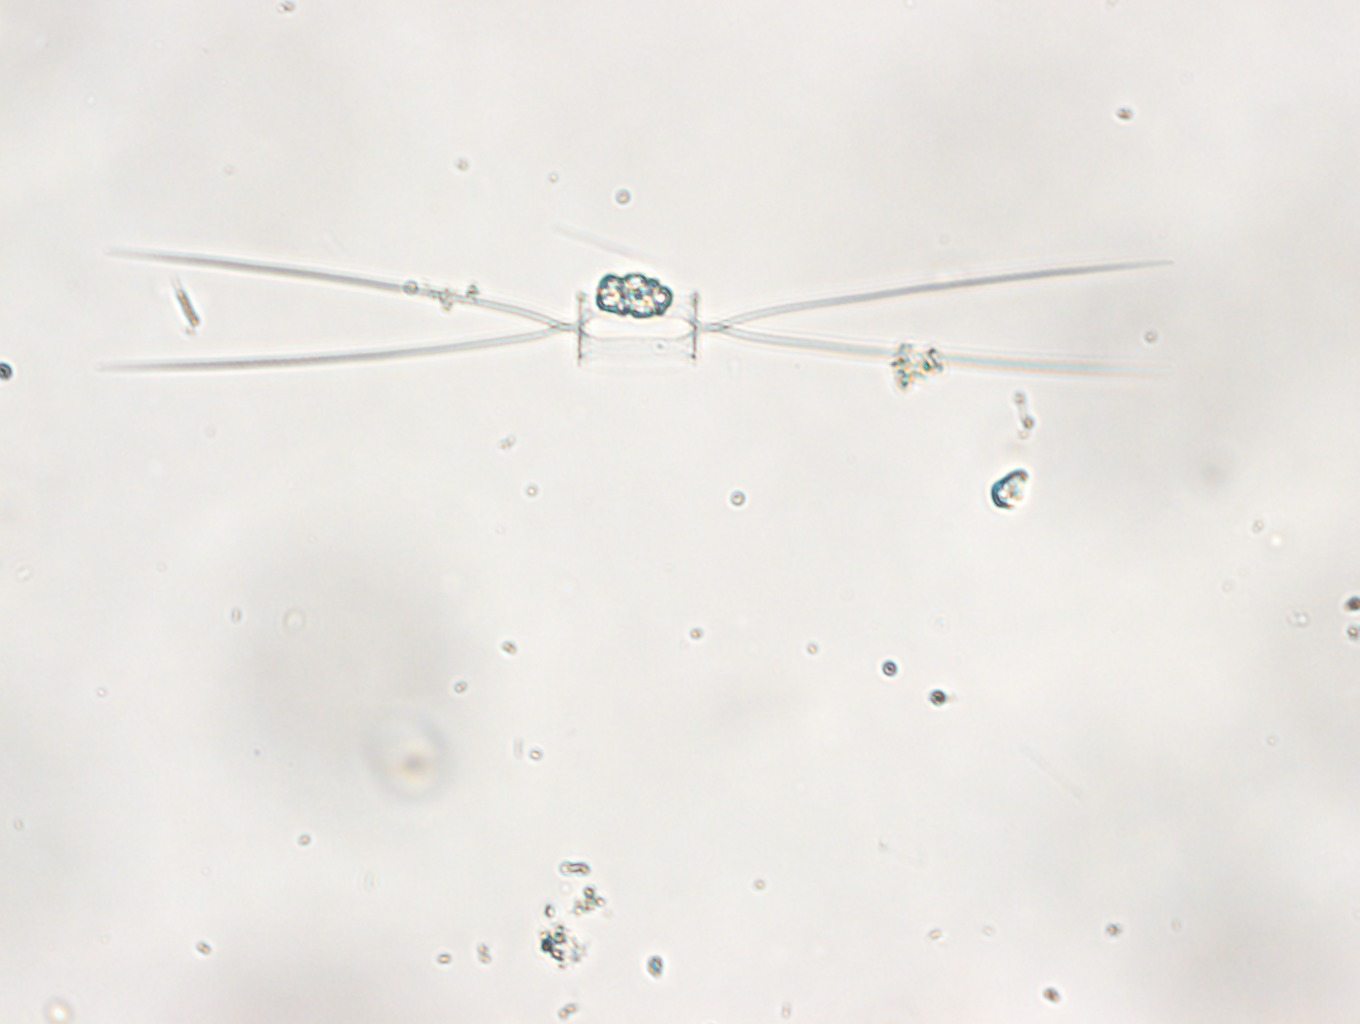chaetoceros: (101, 247, 1180, 376)
